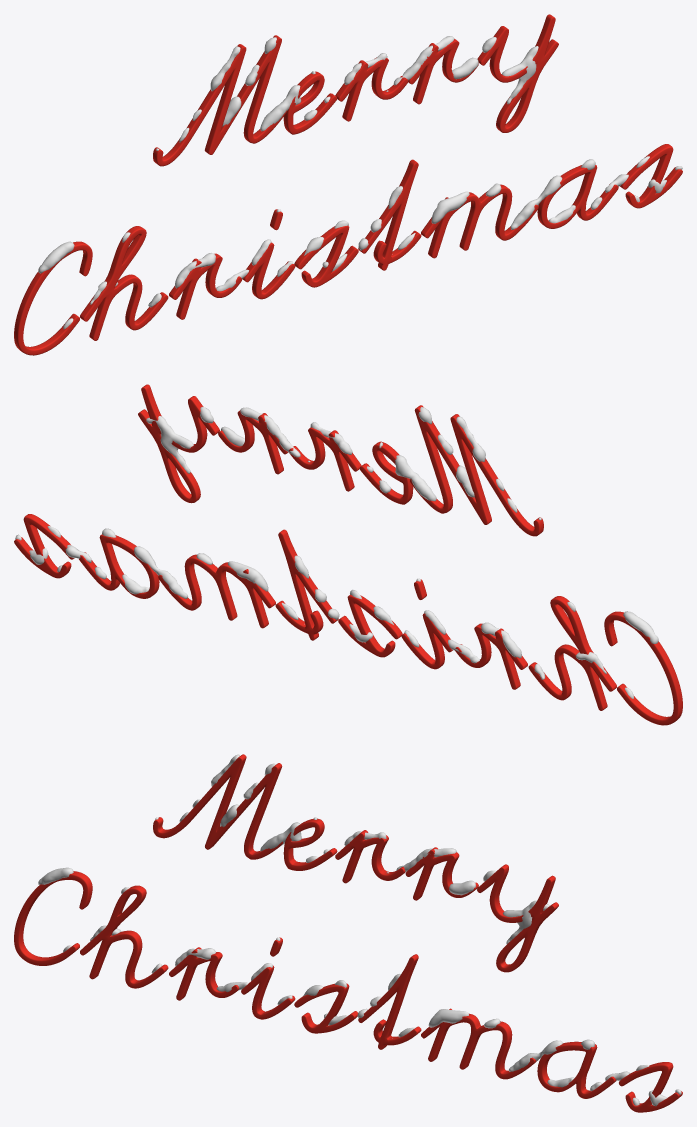
Rendered from Merry_Christmas.fbx.
3 renders of one model, top to bottom at view 1: azimuth 30°, elevation 25°; view 2: azimuth 150°, elevation 25°; view 3: azimuth 330°, elevation 25°, orthographic.
Visible parts, largest first — view 1: Merry, Christmas, MerrySnow, ChristmasSnow; view 2: Merry, Christmas, MerrySnow, ChristmasSnow; view 3: Merry, Christmas, MerrySnow, ChristmasSnow.
Part boxes in pixels (<box>): Merry: <box>14,144,682,355</box>; Christmas: <box>153,14,558,166</box>; MerrySnow: <box>38,156,682,329</box>; ChristmasSnow: <box>156,36,538,150</box>; Merry: <box>14,514,682,725</box>; Christmas: <box>138,384,543,536</box>; MerrySnow: <box>15,526,658,698</box>; ChristmasSnow: <box>146,406,541,520</box>; Merry: <box>14,871,682,1112</box>; Christmas: <box>153,754,558,972</box>; MerrySnow: <box>38,867,681,1106</box>; ChristmasSnow: <box>155,754,549,944</box>.
Bounding box in the file's own units: 81.13 × 30.06 × 1.75.
